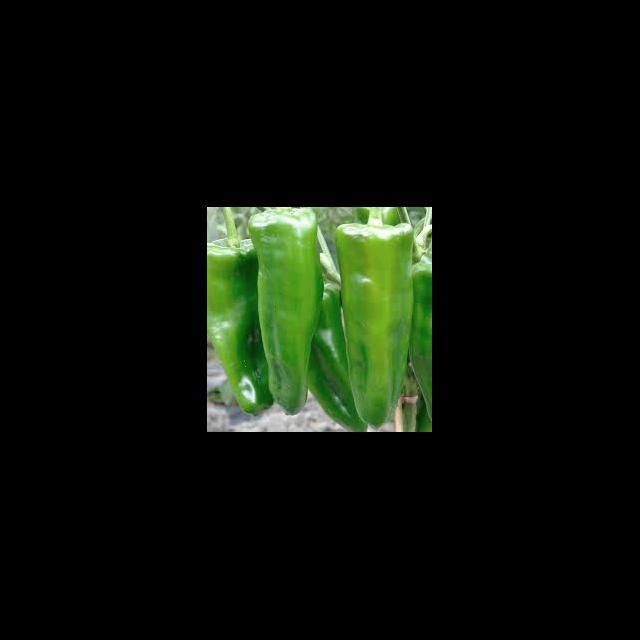chili_pepper: (334, 225, 410, 422), (253, 217, 318, 412), (208, 243, 274, 414), (408, 266, 432, 430)
